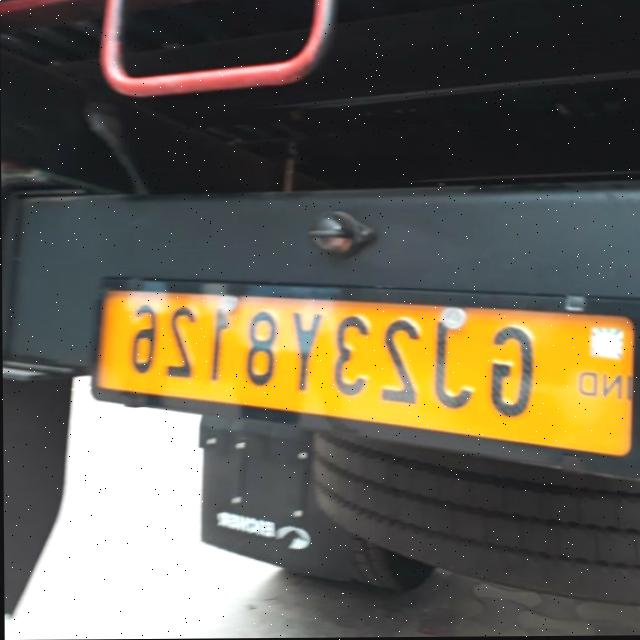plate: (91, 280, 640, 480)
